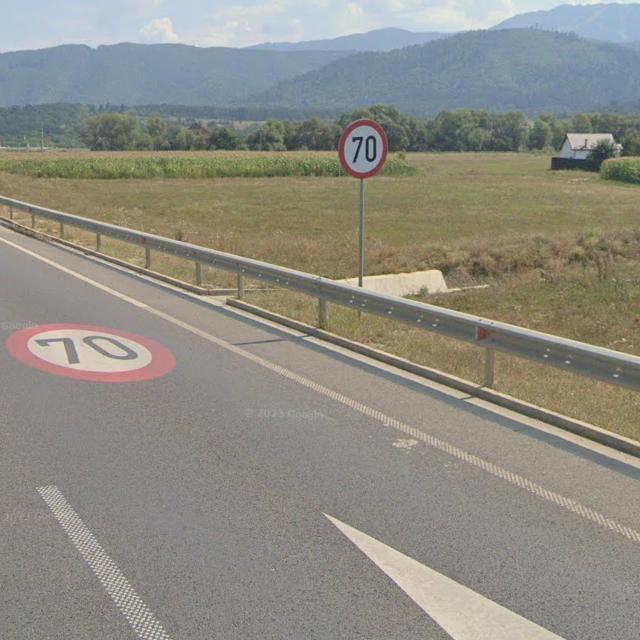forb_speed_over_70: (9, 320, 180, 387), (336, 114, 392, 182)
